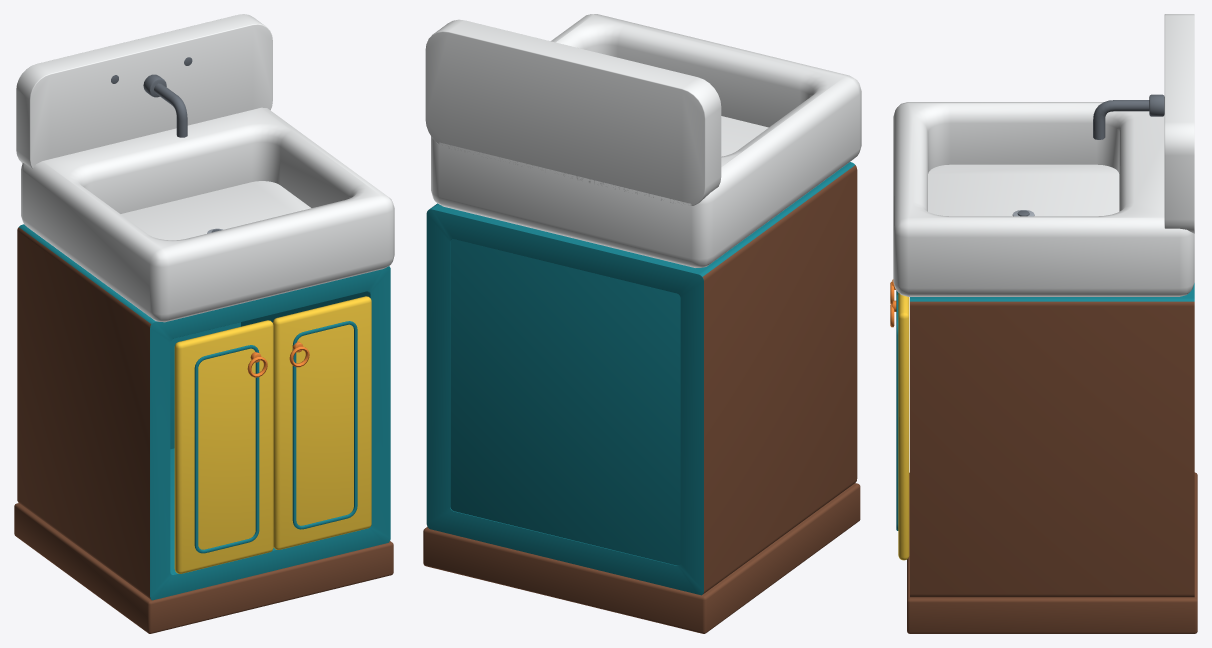
Rendered from armario_cozinha_pia_colonial_mata.glb.
The picture shows the model from 3 angles, left to right: view 1: azimuth 30°, elevation 25°; view 2: azimuth 150°, elevation 25°; view 3: azimuth 270°, elevation 25°; orthographic projection. The views are drawn at different scales.
Parts seen in each view (by area): view 1: armario_cozinha_pia_colonial_mata, porta_1, porta_2; view 2: armario_cozinha_pia_colonial_mata; view 3: armario_cozinha_pia_colonial_mata, porta_2.
Part boxes in pixels (x1,y1,x2,y2): armario_cozinha_pia_colonial_mata: (14, 14, 394, 633); porta_1: (174, 320, 273, 573); porta_2: (273, 296, 371, 549); armario_cozinha_pia_colonial_mata: (423, 14, 861, 633); armario_cozinha_pia_colonial_mata: (893, 14, 1197, 633); porta_2: (890, 293, 909, 560).
Size of the model in its own units: 0.604 by 1.1 by 0.6112.
1 material, 1 textured.
